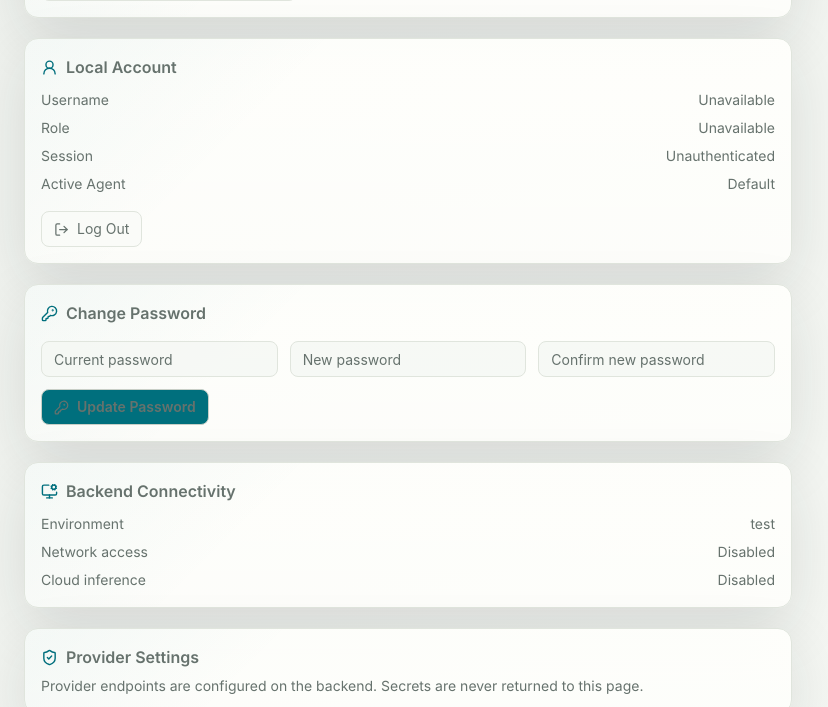
Test: SettingsPage › submits change-password through the backend auth API
This screenshot has width=828, height=707.
(page scrolled)
Type "admin987" into the password field labelled "Current password" at (159, 359), box [41,341,278,377]
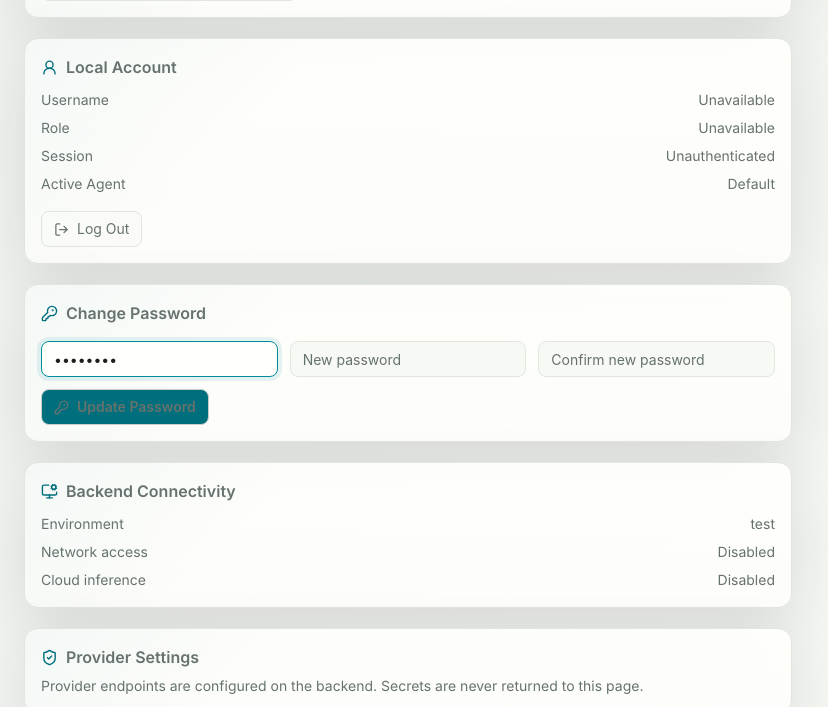
Type "admin987-new" into the password field labelled "New password" at (408, 359), box [290,341,526,377]
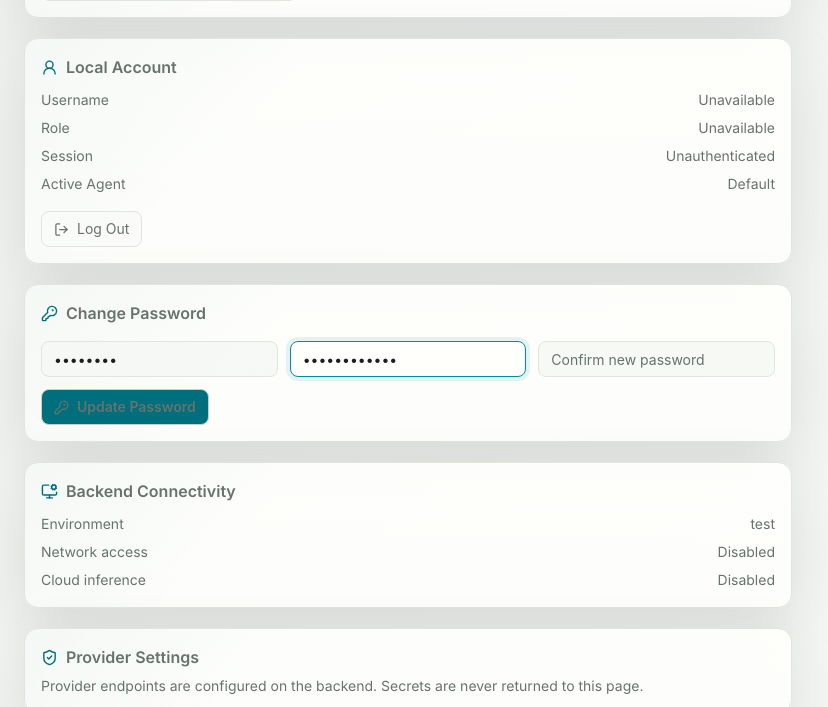
Type "admin987-new" into the password field labelled "Confirm new password" at (657, 359), box [538,341,775,377]
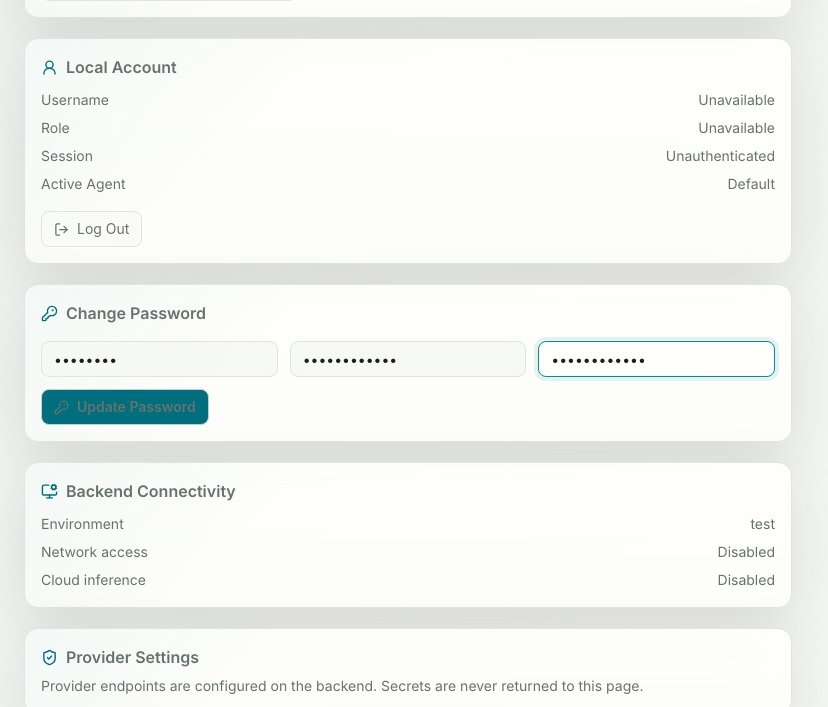
Click the button "Update Password" at (125, 407), box [41,389,209,425]
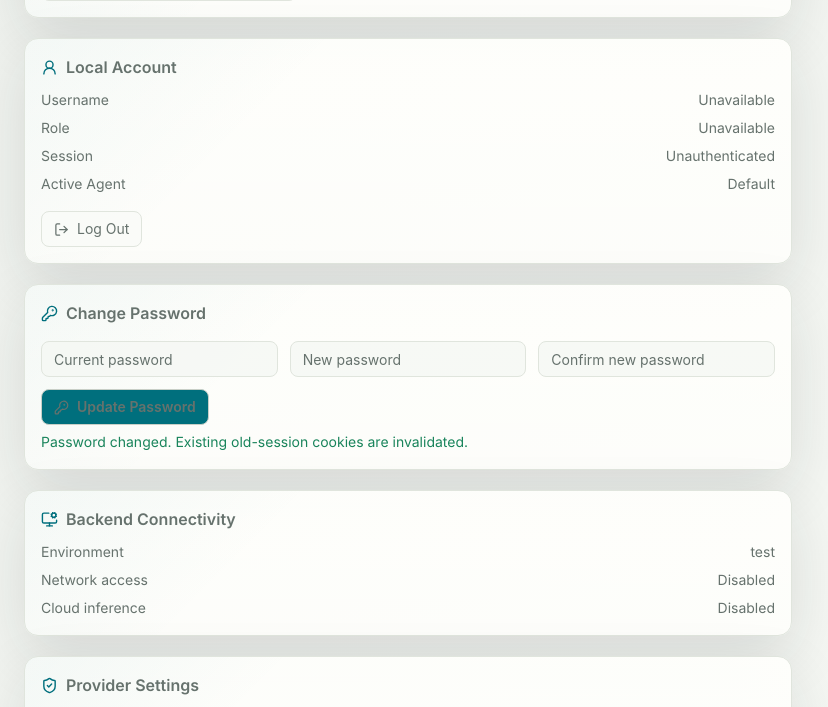
Check: the text "Password changed. Existing old-session cookies are invalidated." is shown, box [41,434,468,451]
